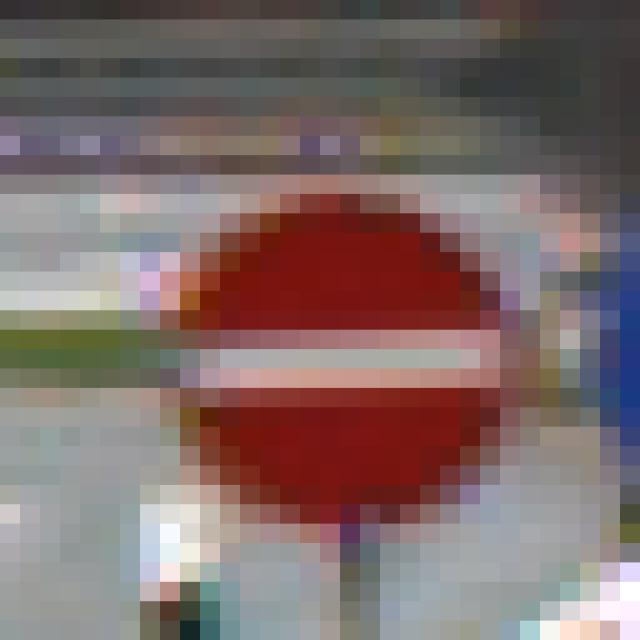No Entry: (101, 98, 541, 544)
